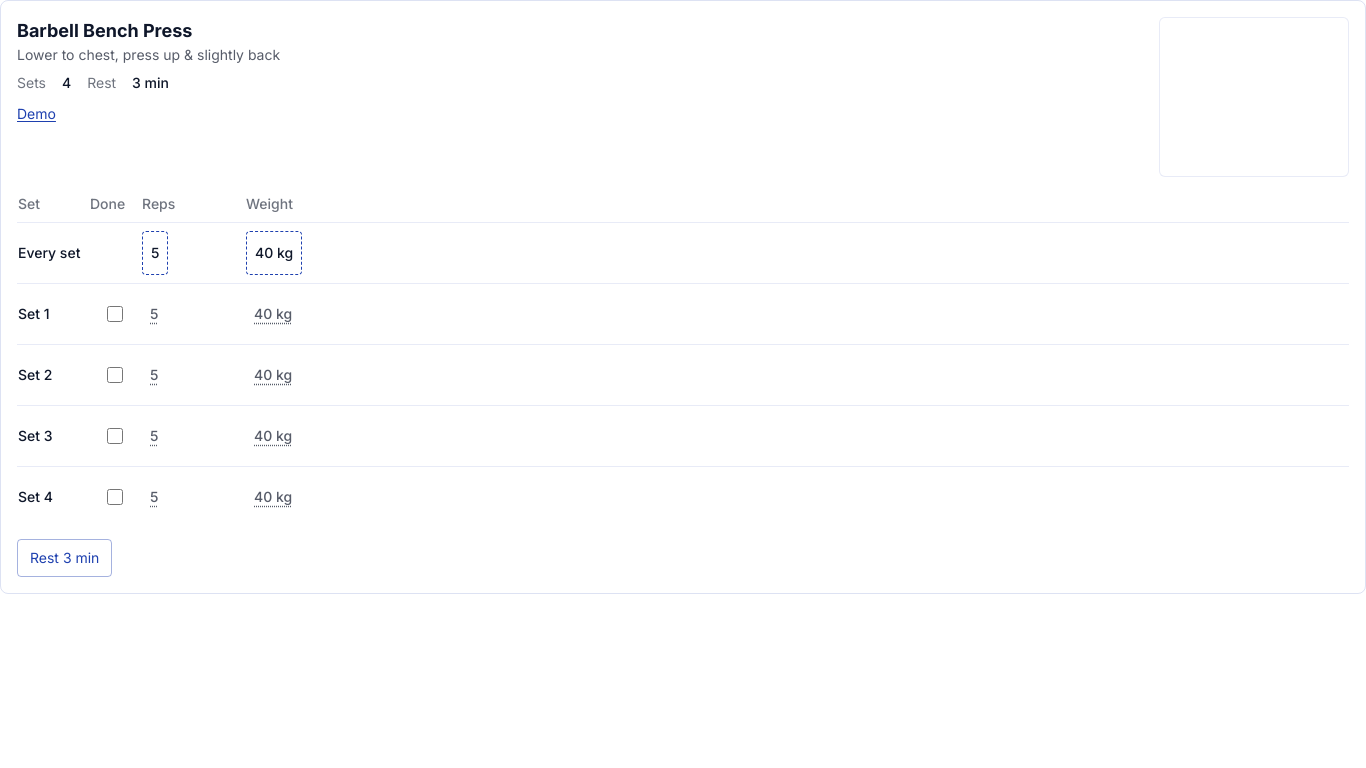
WorkoutExercise › should show the programme default inside the every-set editor
The image size is (1366, 768).
Step 1. Click the button named "change weight for every set of Barbell Bench Press" → click(274, 253), box [246,231,302,275]
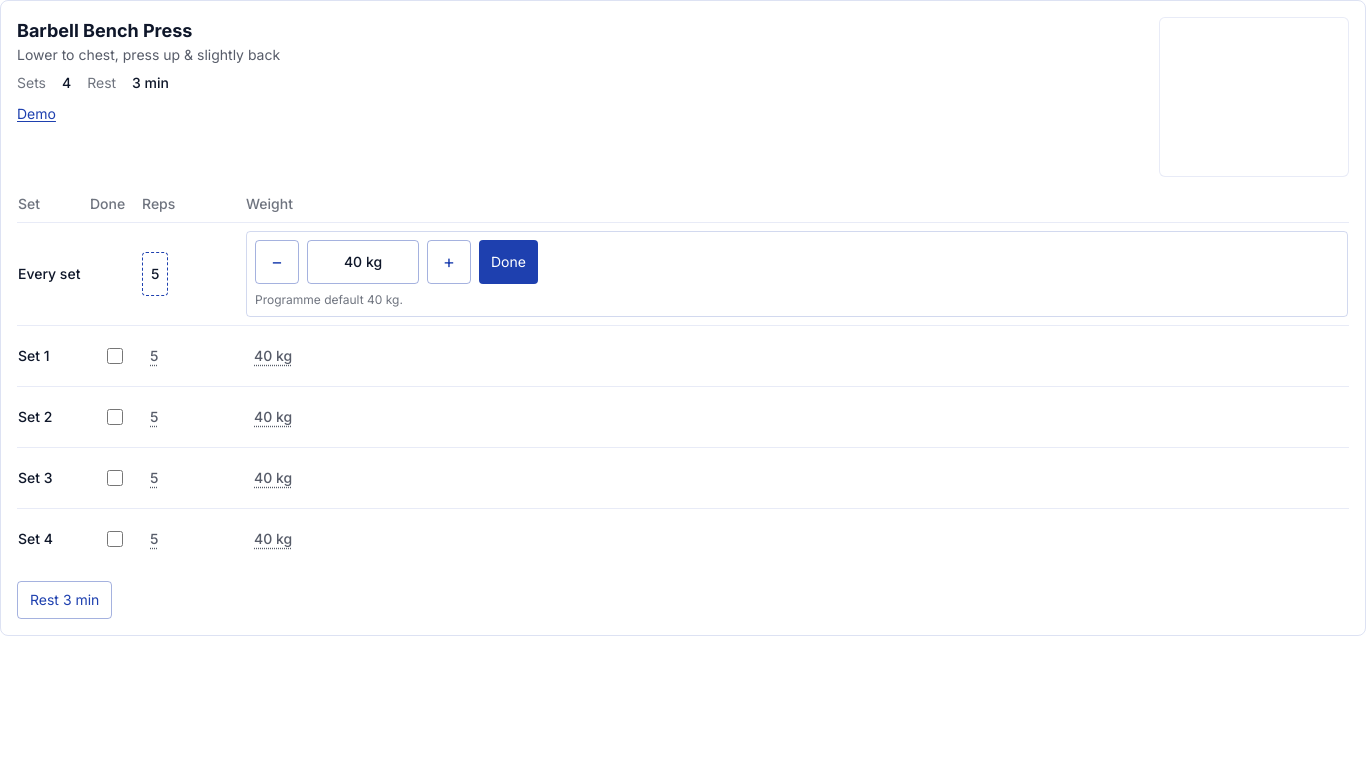
expect the text "Programme default 40 kg." is shown: met, box [255,292,403,307]
